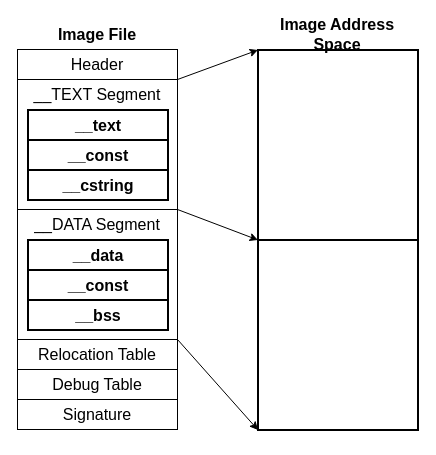
Image size: 436x455. Some labels were removed from this diagram. The shapes that lost their labels are listed below. From the top down, each one's centre as x and y in pixels, then its label:
the point at 337,144: __TEXT __text, __const, __cstring
the point at 337,334: __DATA __data, __const, __bss
